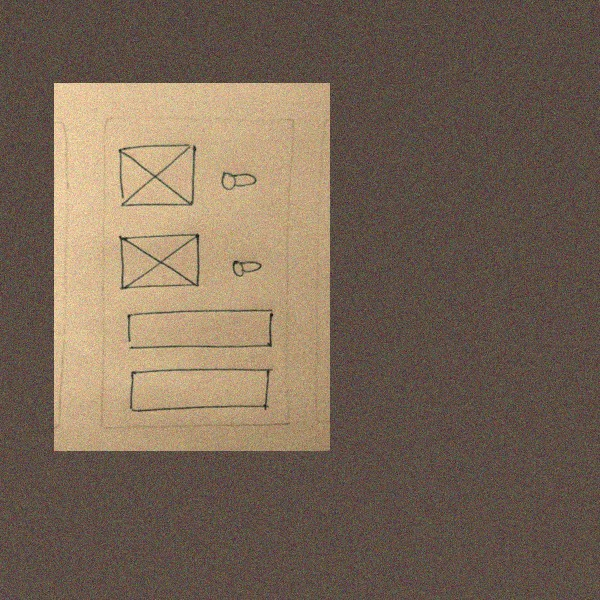image: (113, 140, 202, 215), (113, 231, 204, 293)
switch: (217, 165, 262, 197), (228, 253, 265, 283)
text_input: (123, 305, 276, 355), (122, 366, 277, 413)
